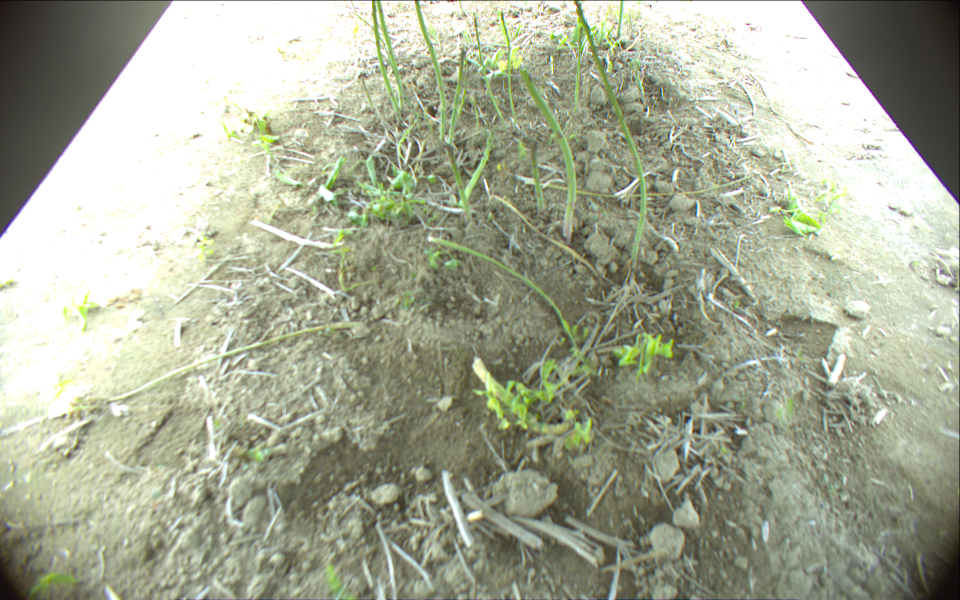aspa: (7, 319, 358, 432), (572, 1, 647, 263), (426, 235, 576, 351), (490, 192, 604, 283), (520, 68, 577, 237), (517, 173, 763, 198), (413, 1, 447, 139), (473, 16, 507, 124), (374, 1, 402, 115), (376, 1, 405, 110), (350, 1, 394, 64), (460, 130, 495, 206), (497, 11, 517, 118), (449, 48, 467, 140), (447, 139, 470, 209), (529, 135, 548, 210), (573, 24, 584, 102), (357, 71, 377, 113), (613, 1, 626, 47)
